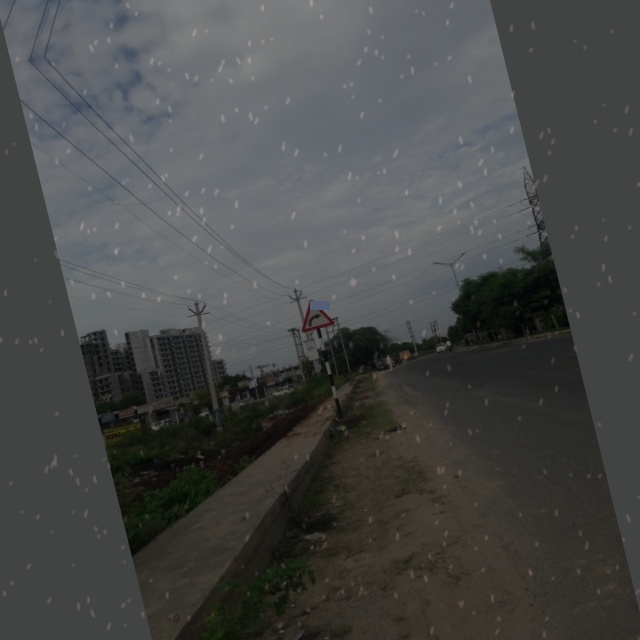Right_Hand_Curve: (294, 294, 336, 336)
